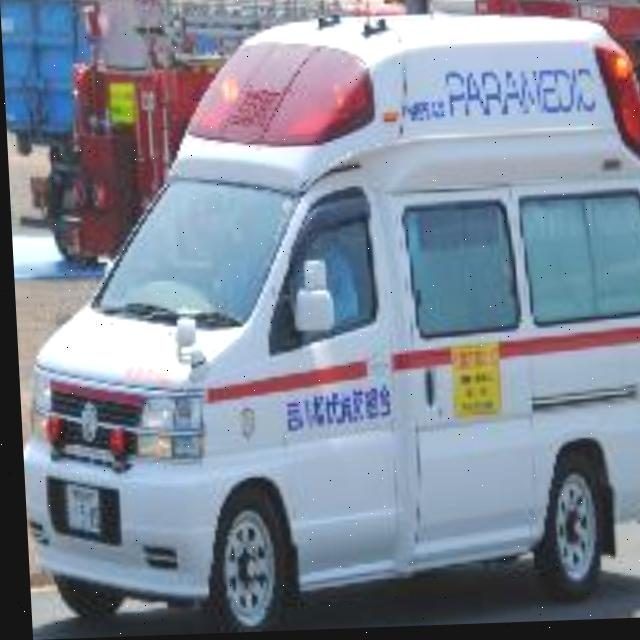emergency: (13, 0, 640, 600)
